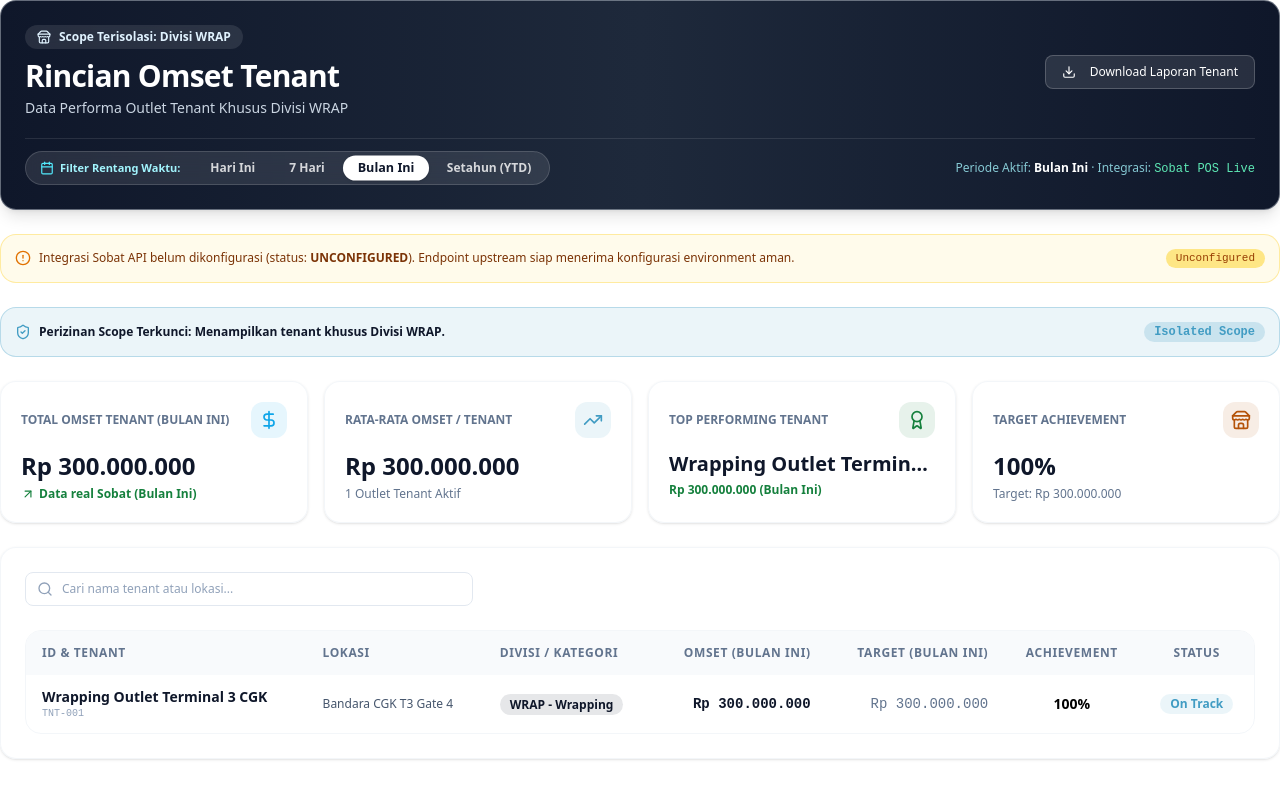
Multi-Module Timeframe Filtering (Real Data, Multi-Period) › 1. TenantRevenuePage: Menyesuaikan omzet tenant Sobat secara proporsional sesuai timeframe
Expected: the text "Total Omset Tenant (Bulan Ini)" is shown, [21, 412, 229, 428]
Expected: the text "Rp 300.000.000" below "Total Omset Tenant (" is shown, [58, 449, 196, 482]
Note: Ganti filter ke 7 Hari
Click the button with test id "btn-tenant-period-7d" at (307, 168), box [275, 156, 339, 180]
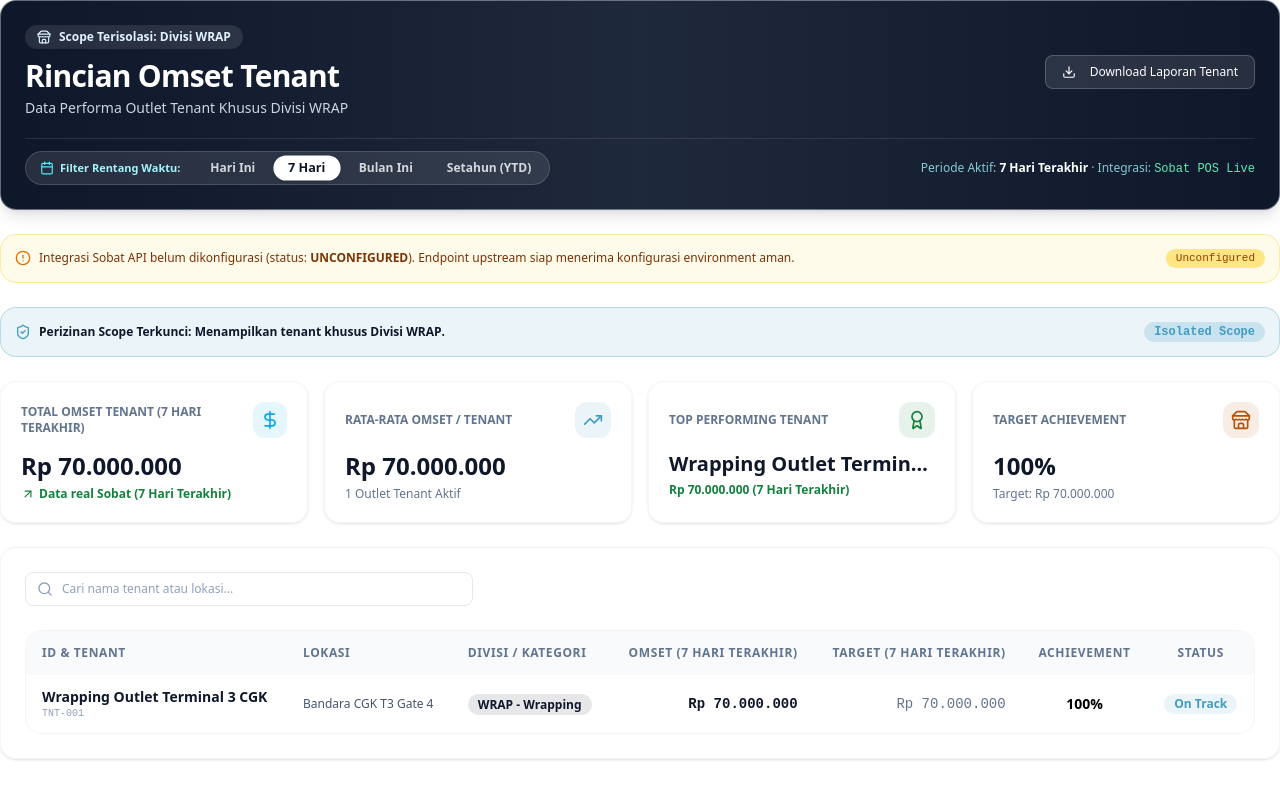
Expected: the text "Total Omset Tenant (7 Hari Terakhir)" is shown, [21, 403, 201, 436]
Expected: the text "Rp 70.000.000" below "Total Omset Tenant (" is shown, [58, 449, 182, 482]
Click the button with test id "btn-tenant-period-ytd" at (489, 168), box [433, 156, 545, 180]
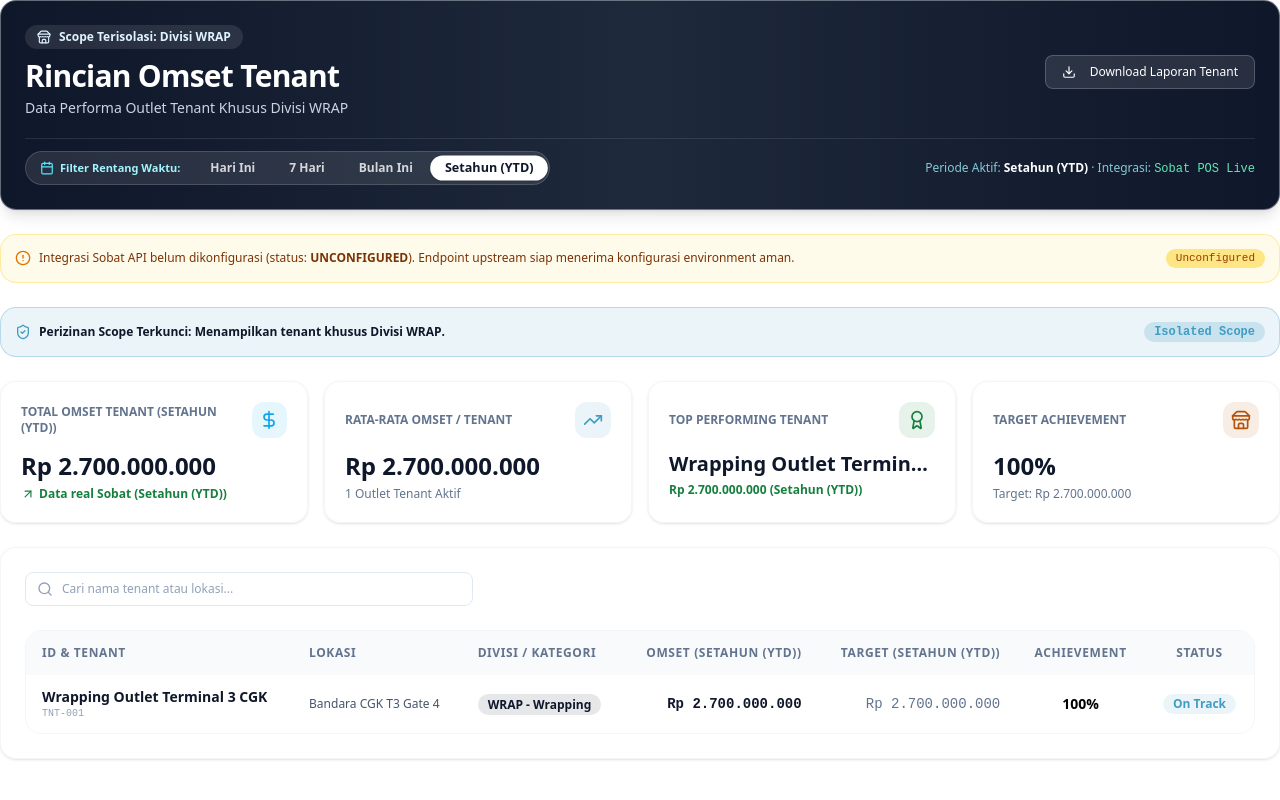
Expected: the text "Total Omset Tenant (Setahun (YTD))" is shown, [21, 403, 217, 436]
Expected: the text "Rp 2.700.000.000" below "Total Omset Tenant (" is shown, [58, 449, 216, 482]
